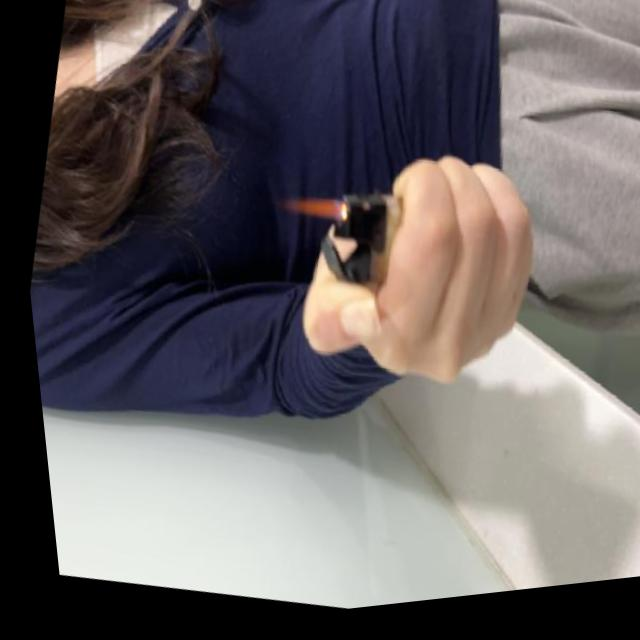Fire: (271, 194, 345, 235)
